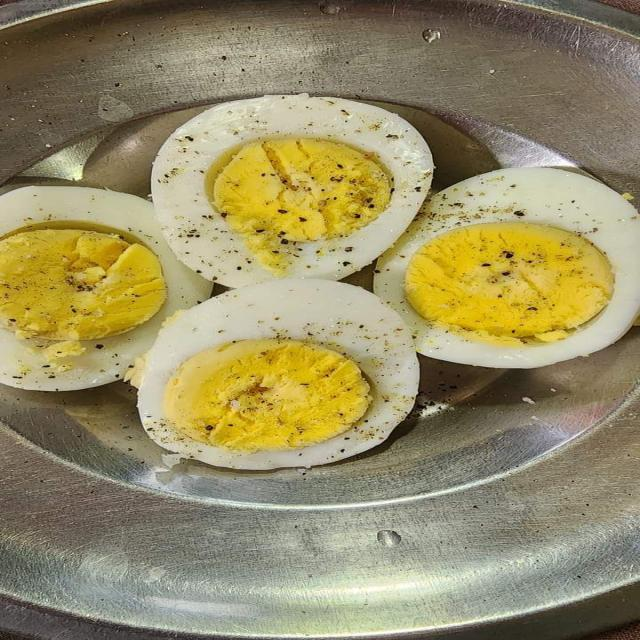eggs: (23, 113, 640, 474)
